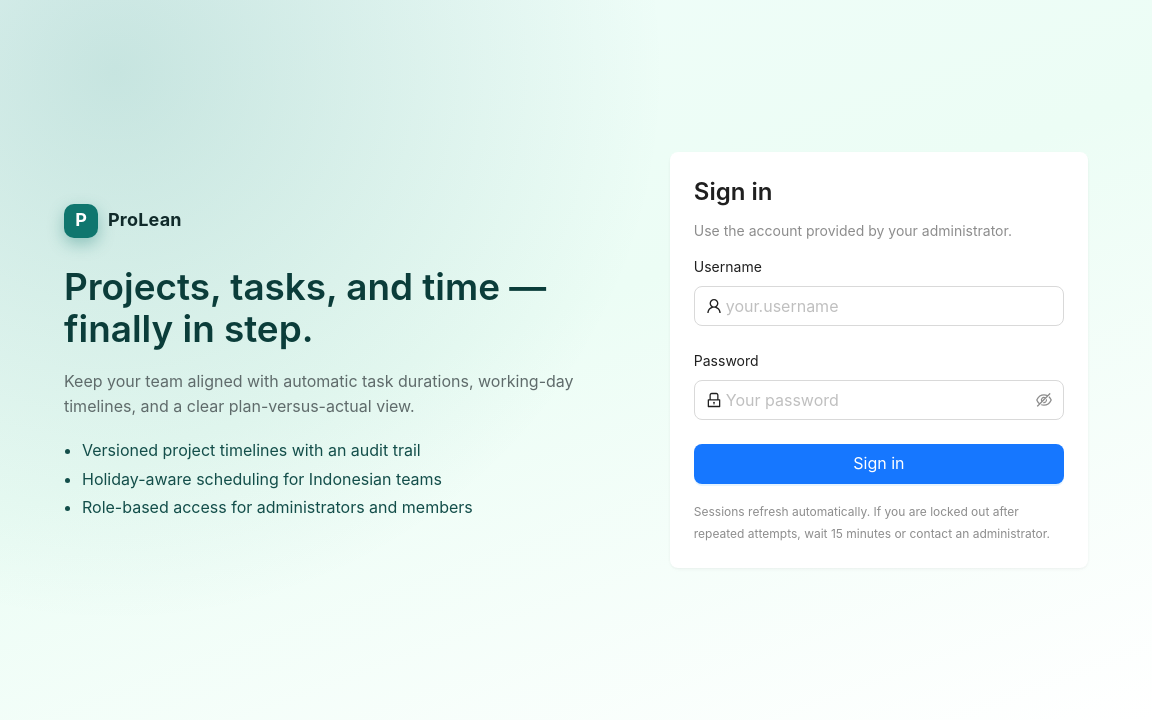
Test: LoginPage › shows Problem Details when login fails
The width and height of the screenshot is (1152, 720).
Type "jane" into the field labelled "Username".
click(889, 306); type("jane")  # box [726,294,1052,318]
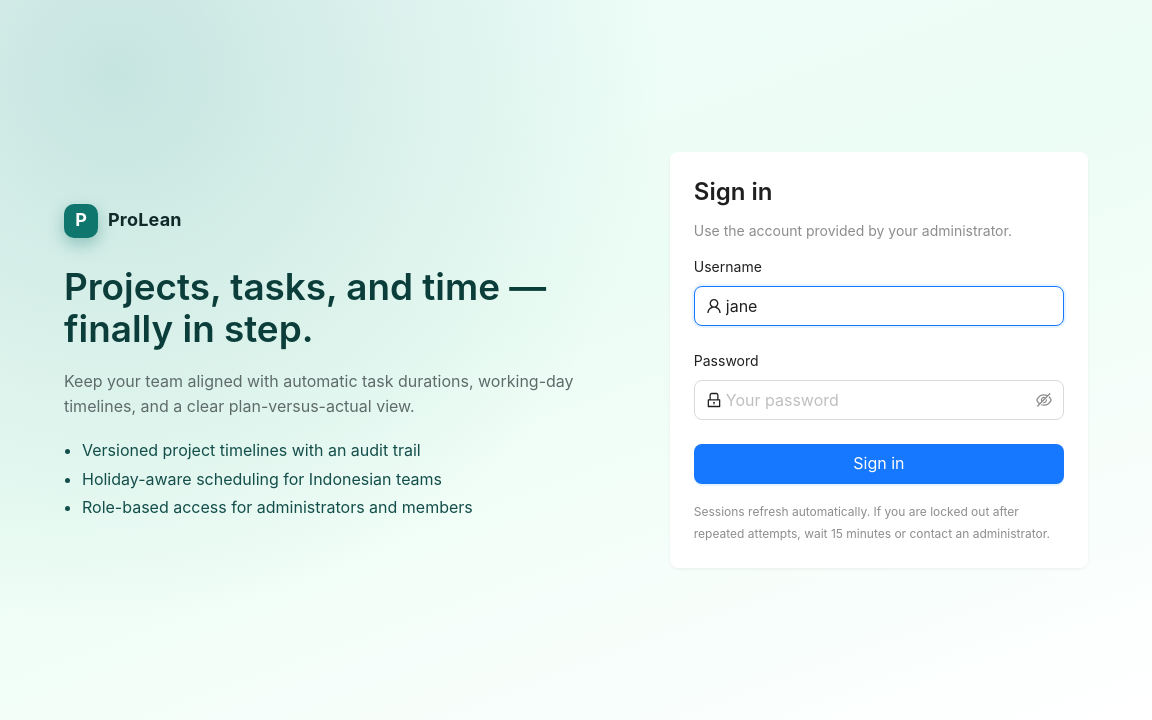
Type "wrong" into the password field labelled "Password".
click(879, 400); type("wrong")  # box [726,388,1032,412]
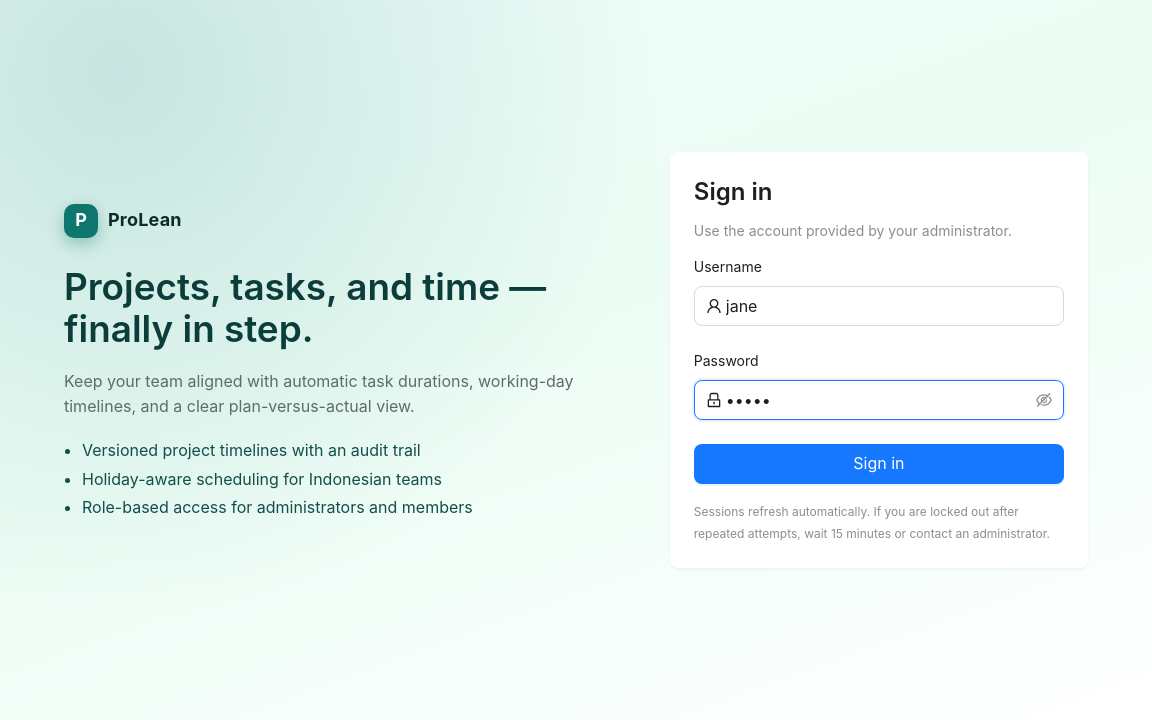
Click the button "Sign in".
click(879, 464)  # box [694,444,1064,484]
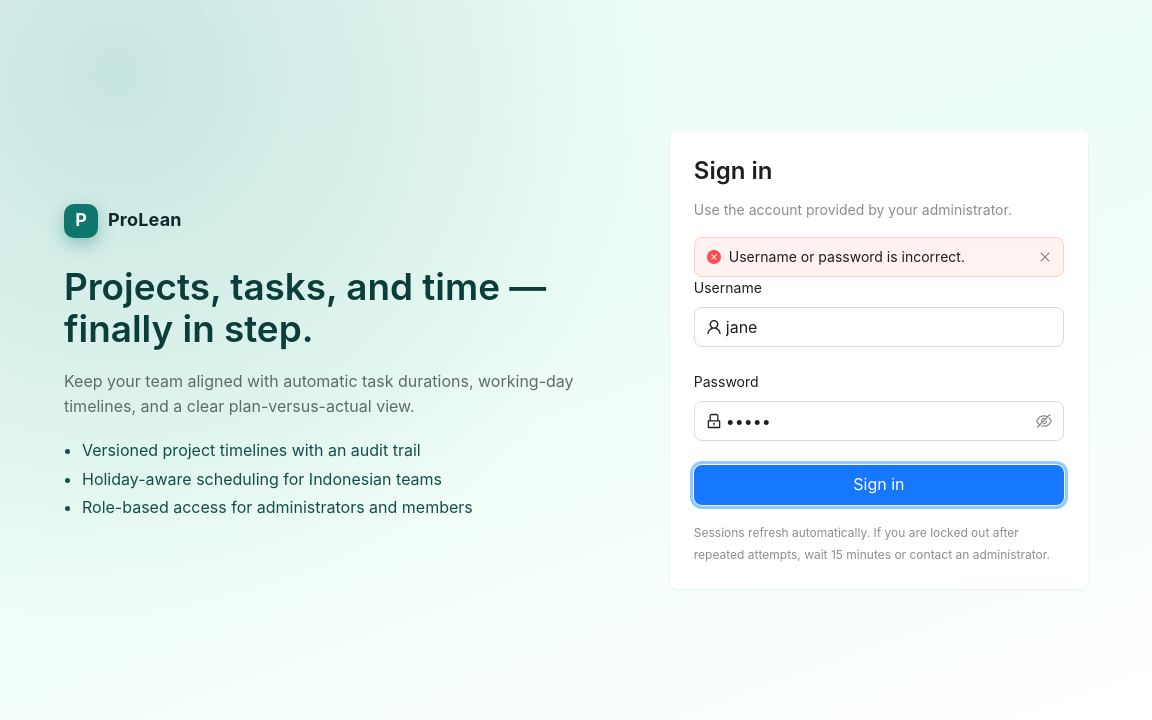
Check: the text "Username or password is incorrect." is shown, box [729,248,965,265]
